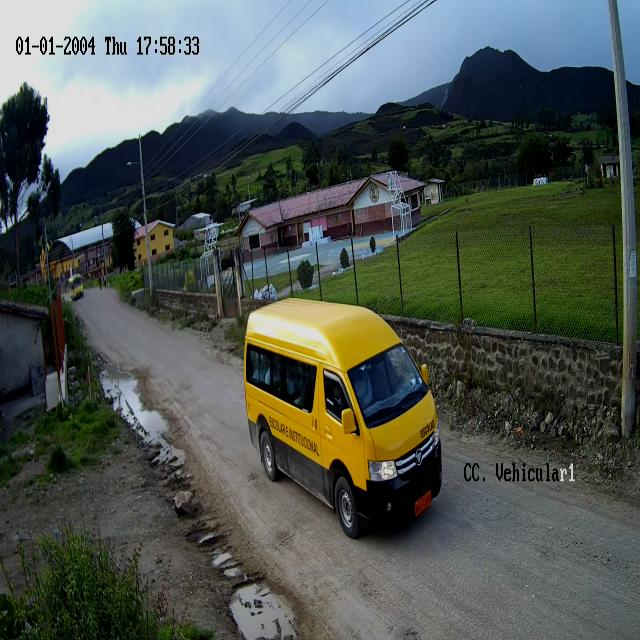BUS: (243, 300, 443, 540)
